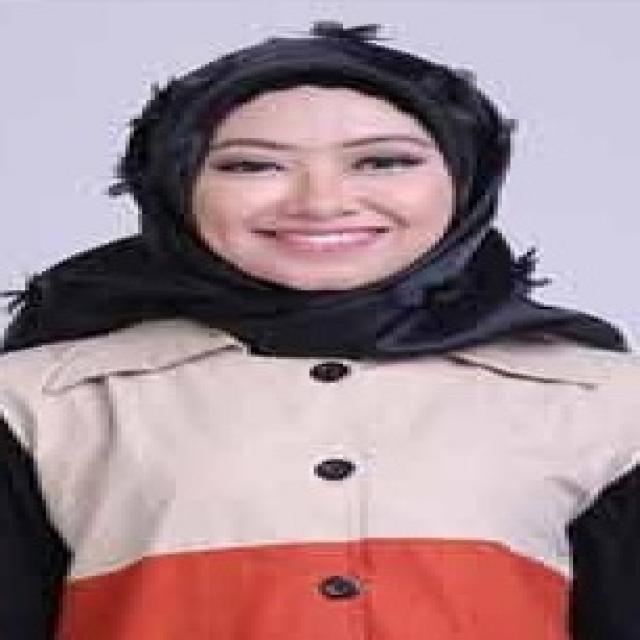head: (127, 31, 523, 294)
